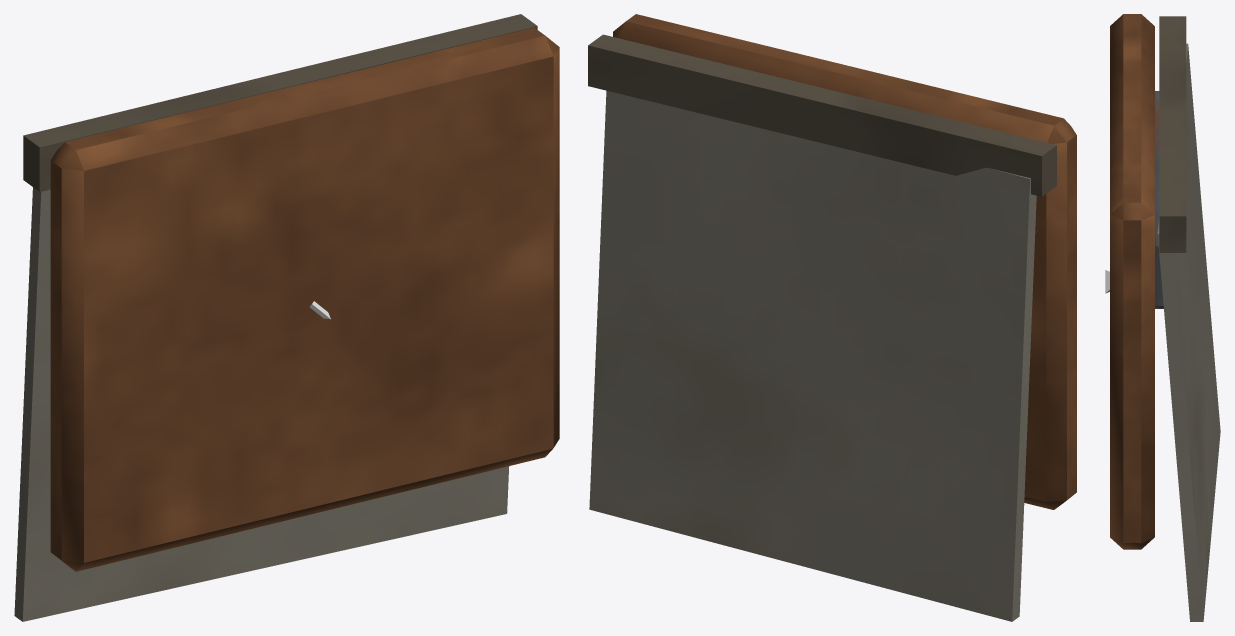
The model's file is ACC_Armor_Back.fbx.
The picture shows the model from 3 angles, left to right: view 1: azimuth 30°, elevation 25°; view 2: azimuth 150°, elevation 25°; view 3: azimuth 270°, elevation 25°; orthographic projection. The views are drawn at different scales.
Visible parts, largest first — view 1: ACC_Armor_Back; view 2: ACC_Armor_Back; view 3: ACC_Armor_Back.
Boxes of the visible parts, x1=… form: ACC_Armor_Back: x1=14, y1=14, x2=559, y2=621; ACC_Armor_Back: x1=588, y1=14, x2=1076, y2=621; ACC_Armor_Back: x1=1110, y1=14, x2=1220, y2=621.
Size of the model in its own units: 2.1 by 2.05 by 0.5118.
Materials: 1 (1 with a texture image).
